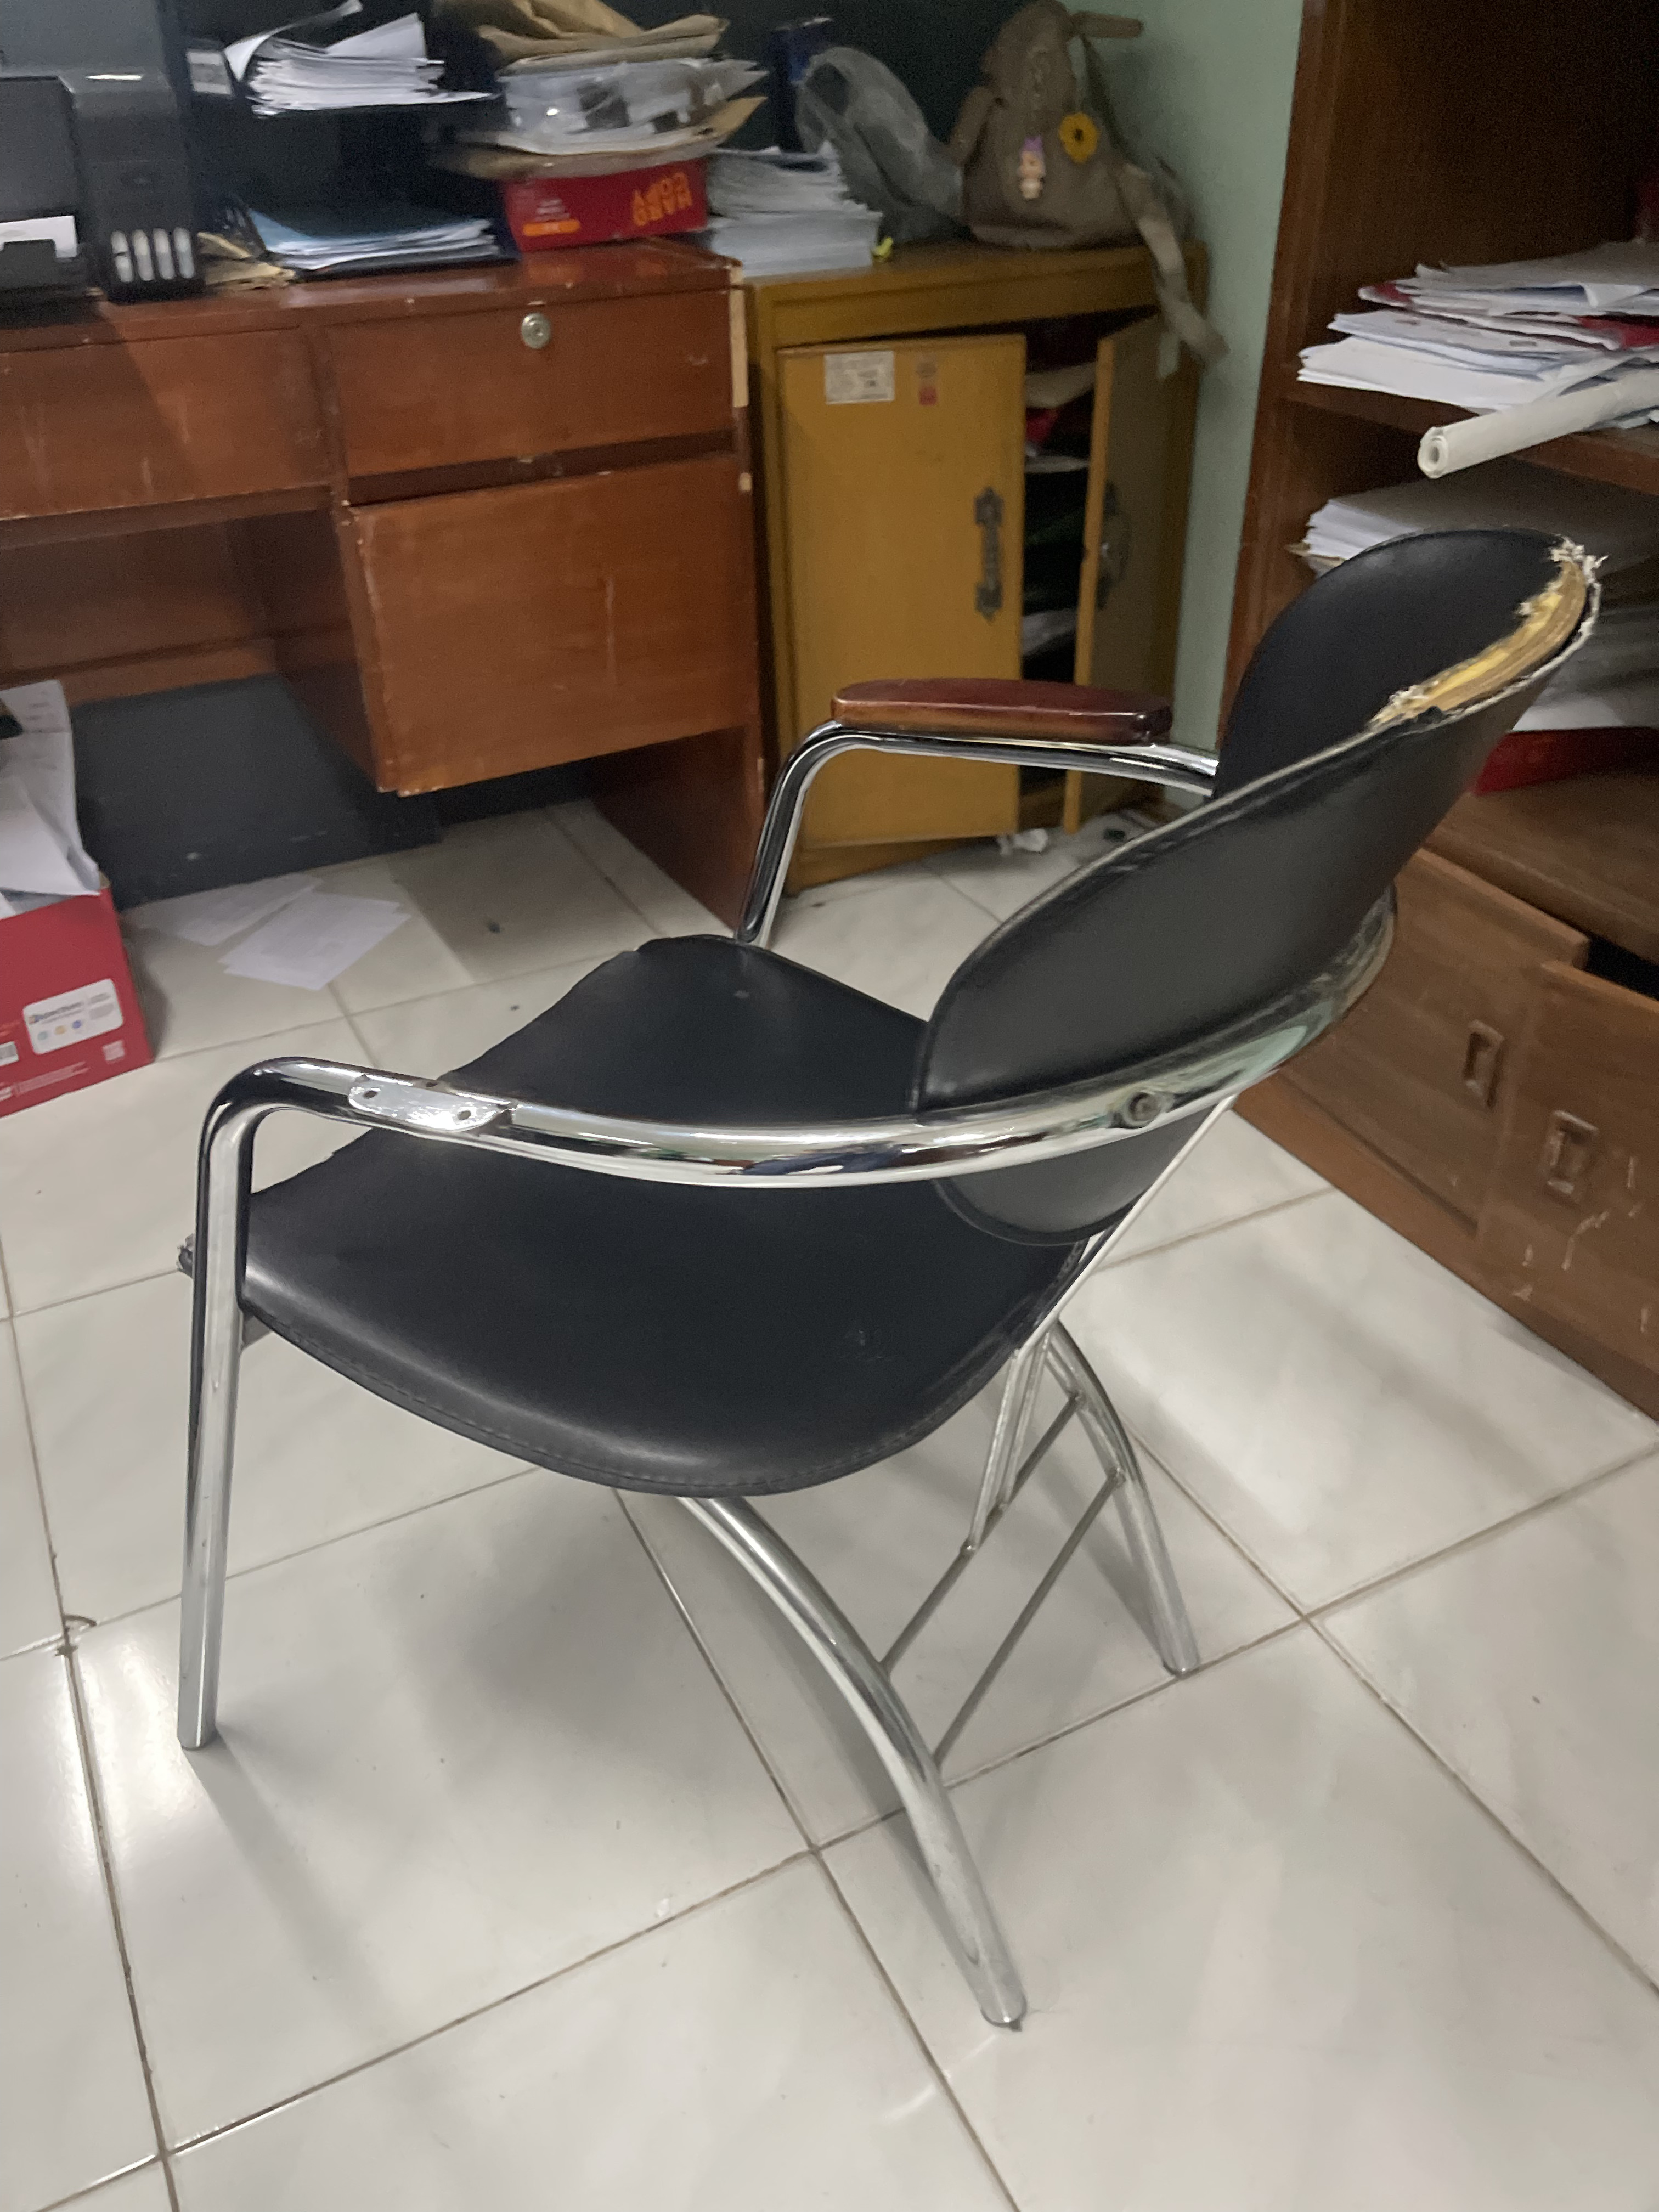chair1: (169, 519, 1600, 2029)
